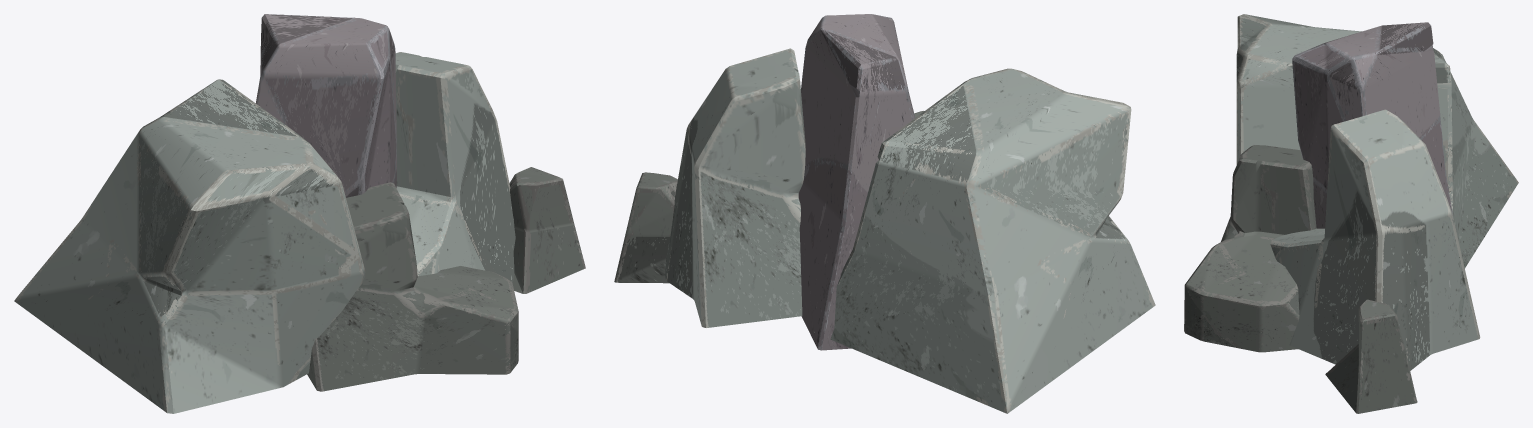
Rendered from Stones_Max_3.fbx.
The picture shows the model from 3 angles, left to right: view 1: azimuth 30°, elevation 25°; view 2: azimuth 150°, elevation 25°; view 3: azimuth 270°, elevation 25°; orthographic projection. The views are drawn at different scales.
Visible parts, largest first — view 1: polySurface19; view 2: polySurface19; view 3: polySurface19.
Boxes of the visible parts, x1,y1,x2,y2 form: polySurface19: (14, 14, 585, 413); polySurface19: (614, 14, 1155, 413); polySurface19: (1184, 14, 1518, 413).
Bounding box in the file's own units: 775 × 456 × 513.
